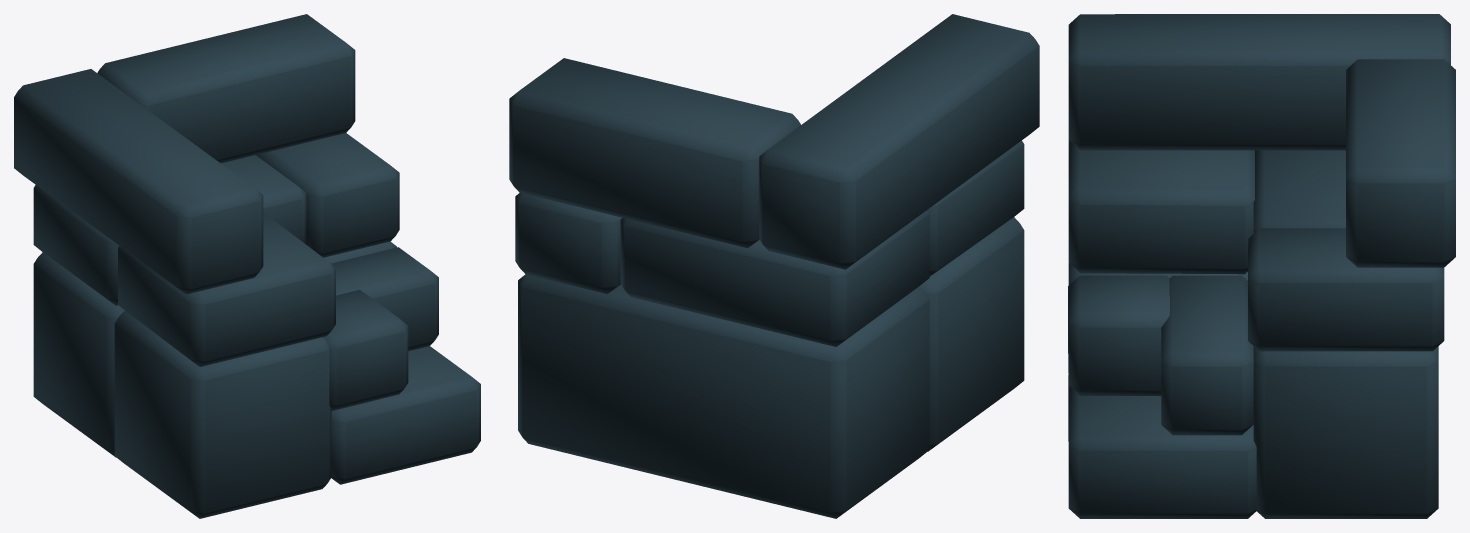
The model's file is stair_corner_concave_hue_4.fbx.
3 renders of one model, left to right at view 1: azimuth 30°, elevation 25°; view 2: azimuth 150°, elevation 25°; view 3: azimuth 270°, elevation 25°, orthographic. The views are drawn at different scales.
Parts seen in each view (by area): view 1: stair_corner_concave_hue_4; view 2: stair_corner_concave_hue_4; view 3: stair_corner_concave_hue_4.
Part boxes in pixels (left/top/right/bottom): stair_corner_concave_hue_4: left=14, top=14, right=480, bottom=518; stair_corner_concave_hue_4: left=509, top=14, right=1039, bottom=518; stair_corner_concave_hue_4: left=1068, top=14, right=1455, bottom=518.
Size of the model in its own units: 105 by 105 by 105.
